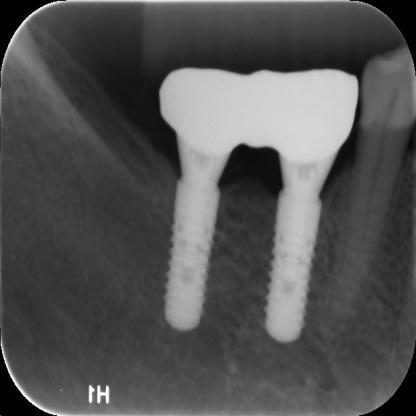ITI: (158, 183, 226, 333), (260, 192, 322, 340)
